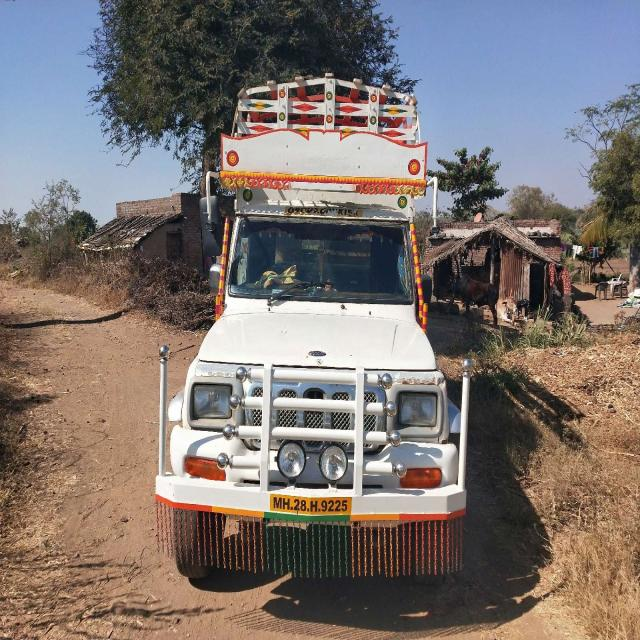light_vehicle: (159, 188, 466, 521)
